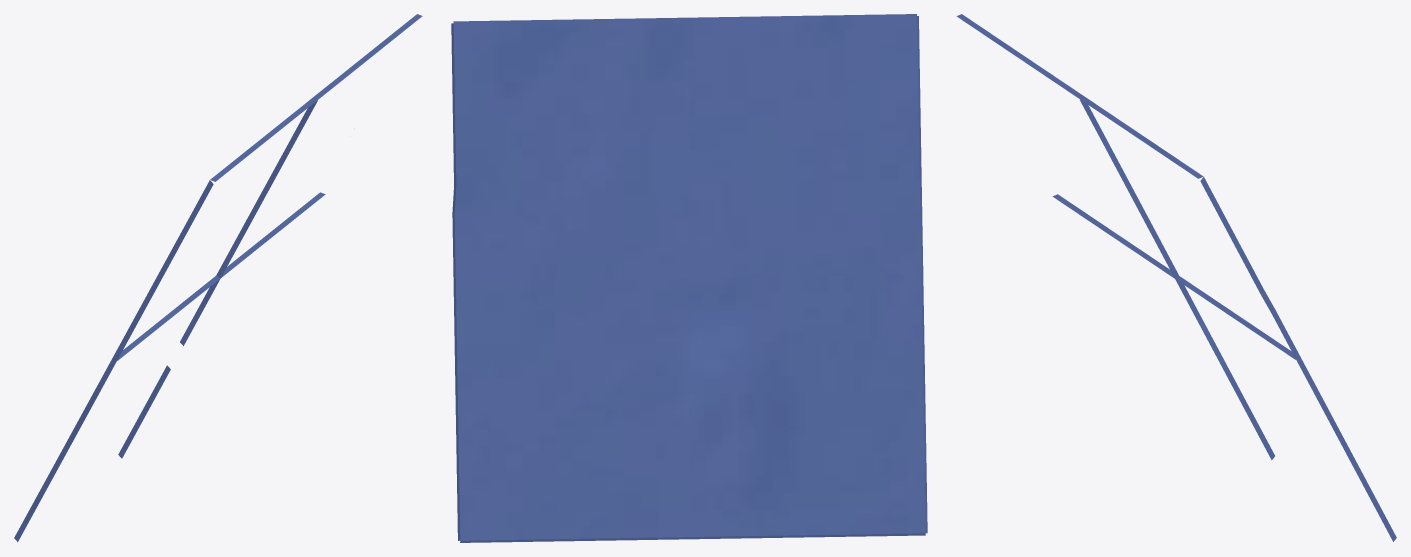
The picture shows the model from 3 angles, left to right: view 1: azimuth 30°, elevation 25°; view 2: azimuth 150°, elevation 25°; view 3: azimuth 270°, elevation 25°; orthographic projection. The views are drawn at different scales.
Bounding box in the file's own units: 39415 × 35420 × 34054.
Materials: 1 (1 with a texture image).
